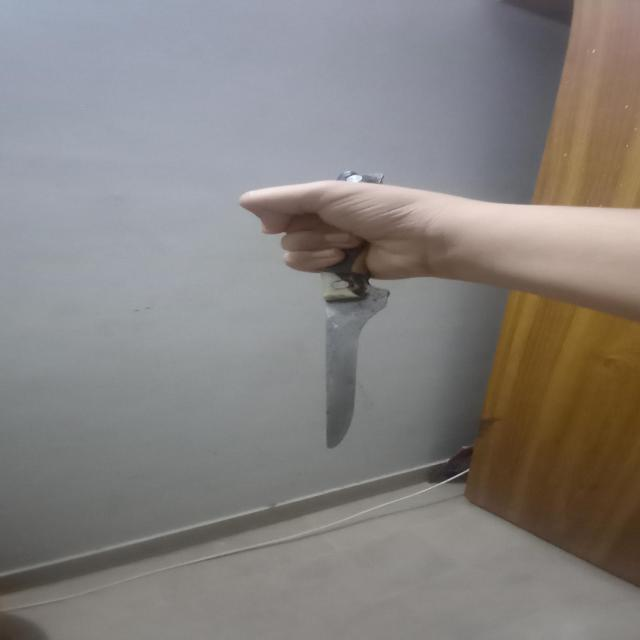Knife: (306, 157, 400, 455)
